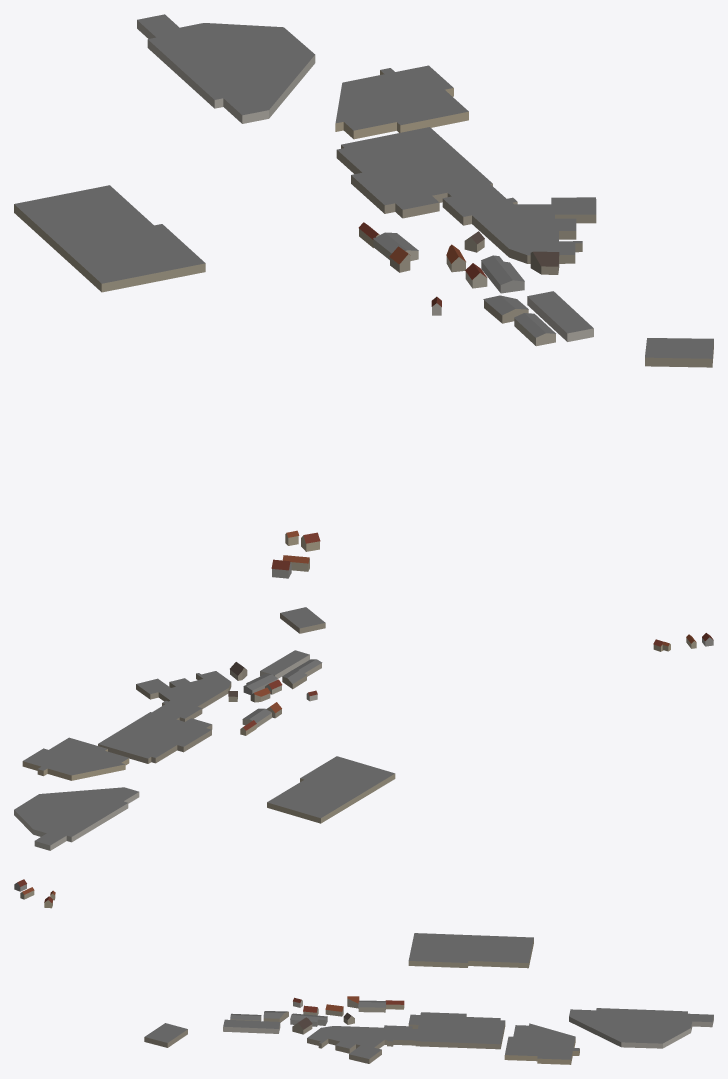
3 renders of one model, top to bottom at view 1: azimuth 30°, elevation 25°; view 2: azimuth 150°, elevation 25°; view 3: azimuth 270°, elevation 25°, orthographic. The views are drawn at different scales.
Parts seen in each view (by area): view 1: buildings; view 2: buildings; view 3: buildings.
Part boxes in pixels (<box>): buildings: <box>14,14,713,578</box>; buildings: <box>14,607,713,850</box>; buildings: <box>14,879,713,1064</box>.
Size of the model in its own units: 456 by 22.44 by 756.
